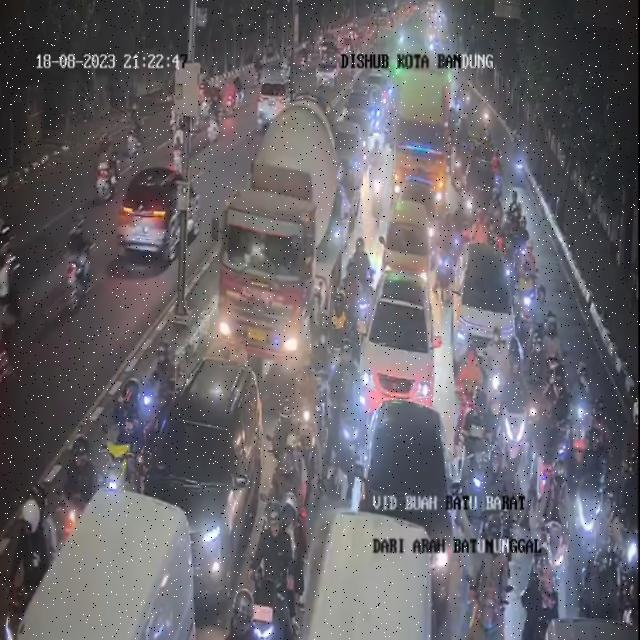cars: (142, 366, 264, 602), (8, 497, 186, 640), (310, 508, 438, 640), (375, 390, 452, 585), (354, 267, 435, 421), (451, 236, 514, 376), (387, 204, 434, 286), (335, 110, 363, 186), (397, 176, 440, 223), (353, 80, 375, 133)
motorcycle: (252, 485, 302, 640), (0, 478, 56, 616), (532, 458, 566, 610), (110, 372, 151, 484), (470, 492, 500, 640), (613, 446, 640, 610), (463, 395, 500, 503), (328, 358, 360, 475), (570, 422, 596, 552), (502, 361, 530, 469), (483, 314, 511, 414), (288, 374, 321, 457), (62, 434, 92, 522), (527, 312, 556, 396), (147, 330, 175, 415), (271, 472, 310, 532), (520, 351, 546, 436), (310, 329, 338, 396), (573, 349, 591, 453), (550, 354, 570, 446), (272, 403, 296, 478), (432, 214, 455, 291), (540, 305, 573, 357), (370, 136, 390, 218), (330, 284, 348, 375), (593, 398, 611, 487), (515, 254, 535, 334), (454, 337, 471, 425), (356, 231, 376, 304), (450, 192, 472, 258), (298, 416, 322, 472), (507, 128, 532, 178), (472, 204, 490, 255), (342, 257, 363, 299), (452, 124, 466, 186), (509, 202, 524, 253), (488, 205, 510, 237), (382, 104, 394, 143)
truck: (210, 111, 354, 365), (397, 51, 448, 220)
